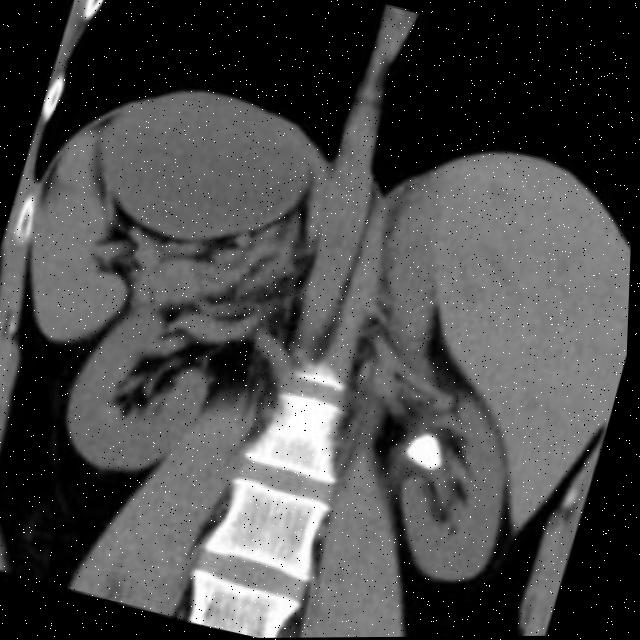Tas_Var: (401, 422, 454, 480)
